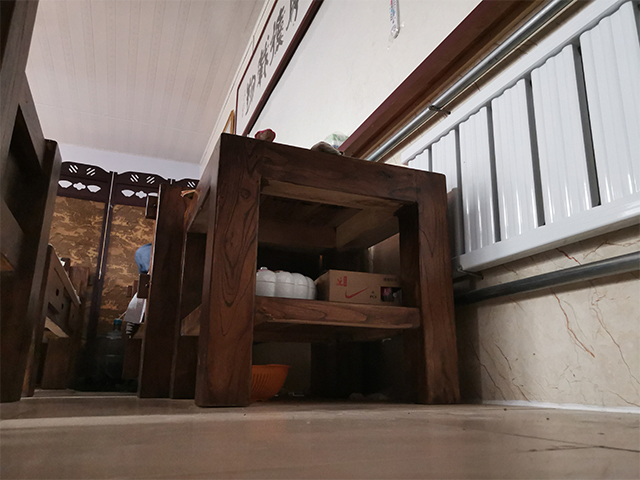slippers: (67, 372, 137, 395)
stool: (167, 131, 467, 409)
table: (1, 1, 91, 403)
